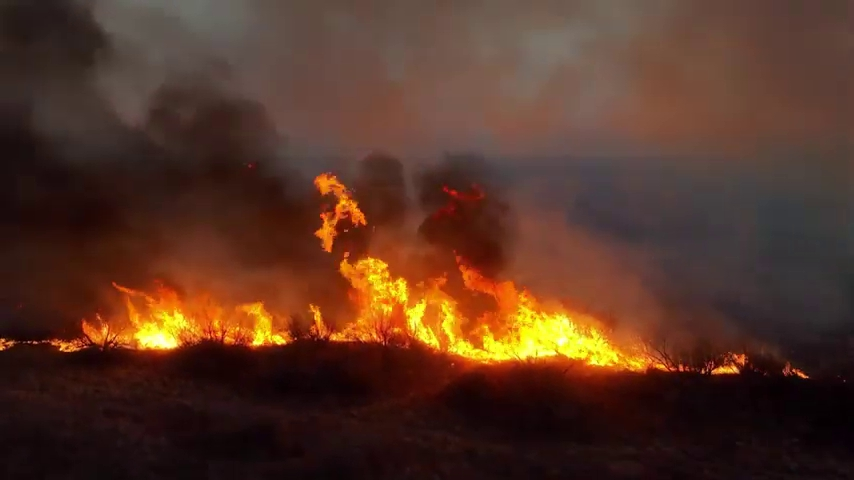forest_fire: (309, 252, 673, 369), (49, 282, 293, 350), (314, 173, 366, 251), (709, 353, 746, 372), (781, 363, 805, 377), (0, 339, 13, 348)
